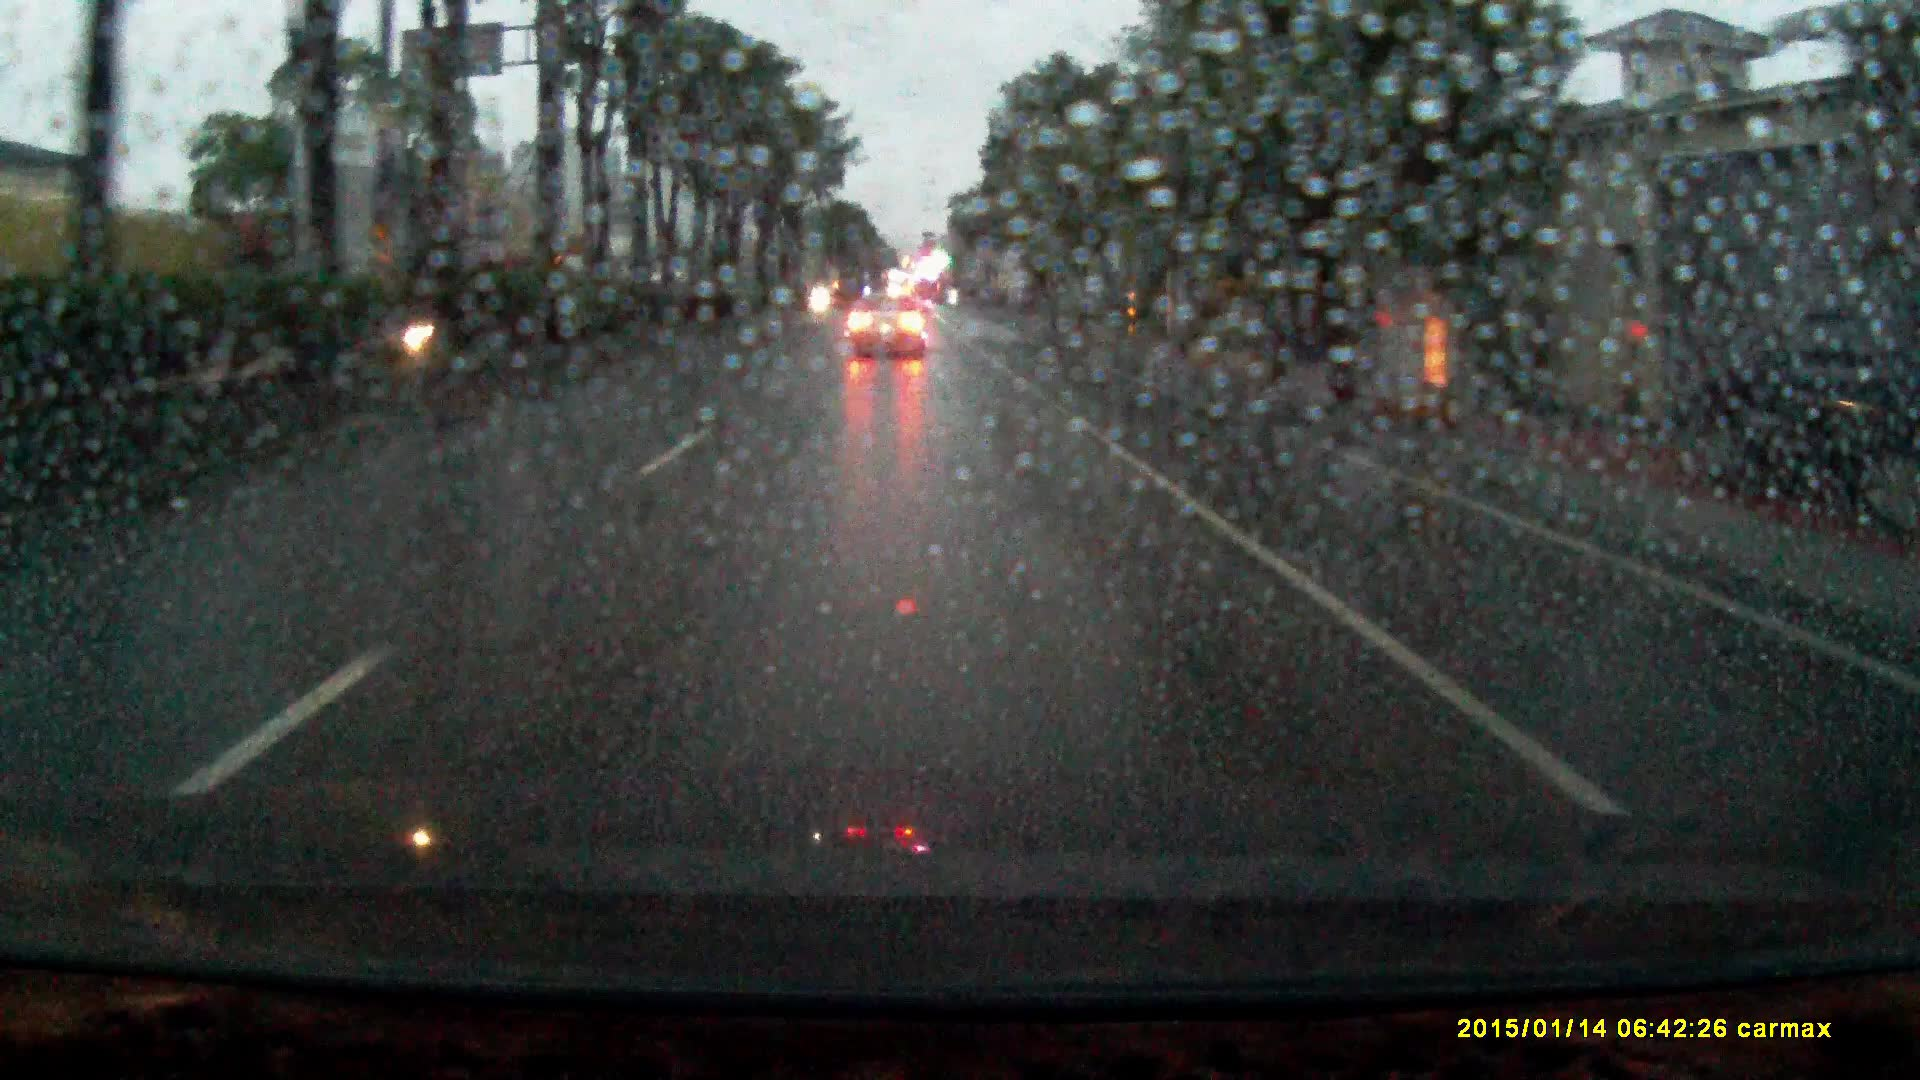vehicle: (1662, 313, 1907, 526), (12, 204, 243, 382), (845, 303, 928, 371)
